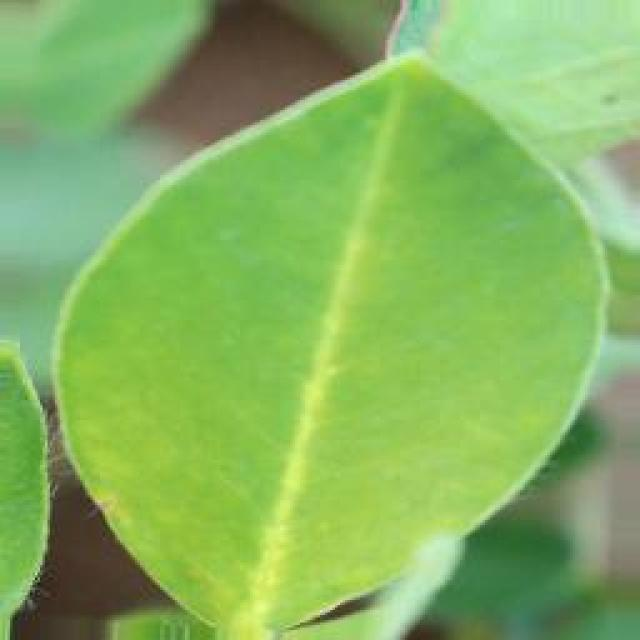Yellow_and_black_sigatoka: (57, 43, 605, 638)
